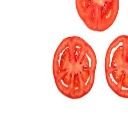tomato: (52, 35, 96, 98), (104, 35, 128, 97), (74, 1, 119, 31)
